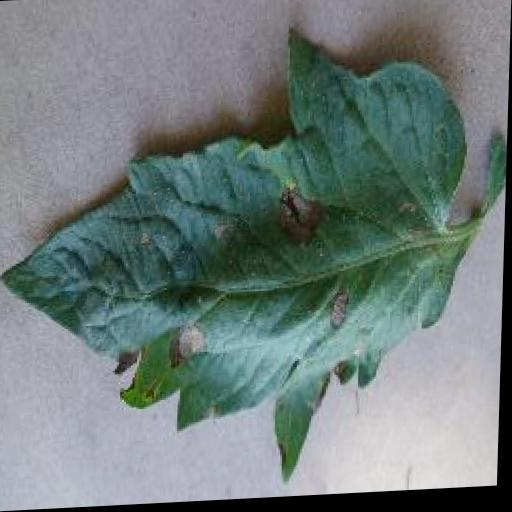Early Blight: (0, 32, 473, 497)
